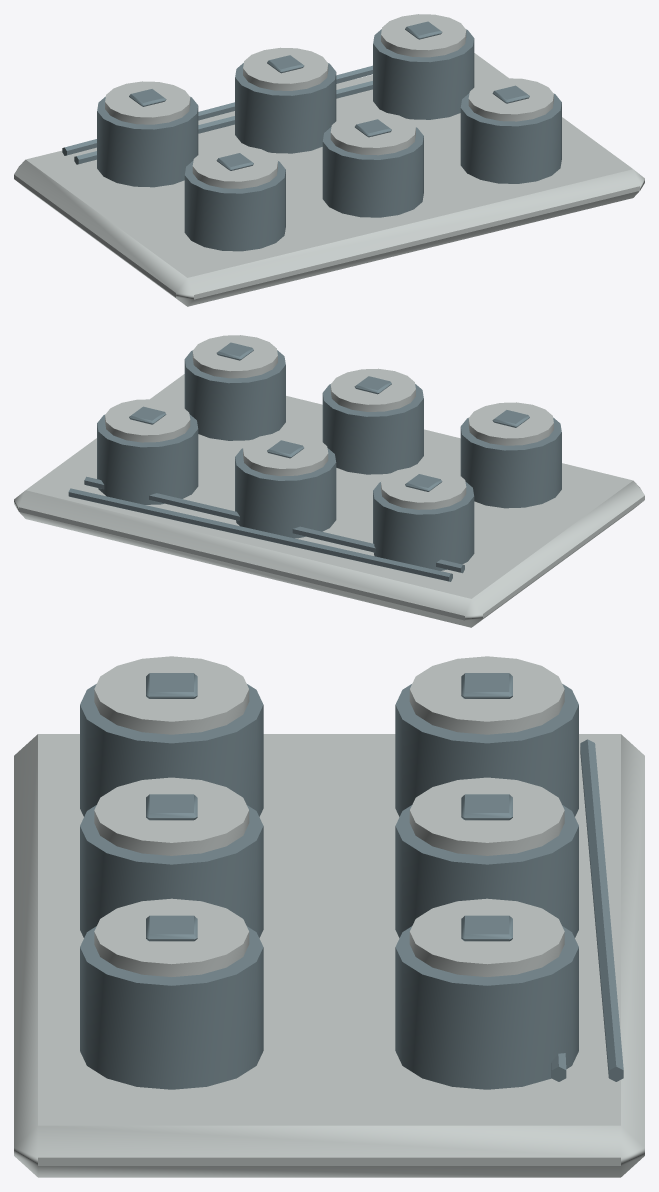
Rendered from sushi-tray.glb.
3 views of the same model, one above another, from view 1: azimuth 30°, elevation 25°; view 2: azimuth 150°, elevation 25°; view 3: azimuth 270°, elevation 25° (orthographic). The views are drawn at different scales.
Parts seen in each view (by area): view 1: serving_board, nori_roll.001, nori_roll.003, nori_roll.005, nori_roll, nori_roll.002, nori_roll.004, rice_top, rice_top.005, rice_top.001, rice_top.004, rice_top.002 (+9 smaller); view 2: serving_board, nori_roll.001, nori_roll.003, nori_roll.005, nori_roll.004, nori_roll.002, nori_roll, chopstick_1, rice_top.001, rice_top.004, rice_top, rice_top.005 (+9 smaller); view 3: serving_board, nori_roll.005, nori_roll.004, nori_roll, nori_roll.001, nori_roll.002, nori_roll.003, rice_top.002, rice_top.003, rice_top.004, rice_top.005, rice_top (+8 smaller).
Part boxes in pixels (x1,y1,x2,y2): serving_board: [14, 53, 644, 306]; nori_roll.001: [184, 160, 285, 251]; nori_roll.003: [322, 127, 423, 217]; nori_roll.005: [460, 93, 561, 183]; nori_roll: [97, 96, 198, 187]; nori_roll.002: [235, 63, 336, 153]; nori_roll.004: [373, 29, 474, 119]; rice_top: [105, 81, 190, 124]; rice_top.005: [468, 78, 553, 121]; rice_top.001: [192, 145, 277, 188]; rice_top.004: [381, 14, 466, 57]; rice_top.002: [243, 47, 328, 90]; serving_board: [14, 374, 644, 627]; nori_roll.001: [460, 417, 561, 508]; nori_roll.003: [322, 384, 423, 474]; nori_roll.005: [184, 350, 285, 440]; nori_roll.004: [97, 414, 198, 504]; nori_roll.002: [235, 448, 336, 538]; nori_roll: [373, 481, 474, 570]; chopstick_1: [68, 488, 452, 581]; rice_top.001: [468, 402, 553, 445]; rice_top.004: [105, 399, 190, 442]; rice_top: [381, 466, 466, 509]; rice_top.005: [192, 335, 277, 378]; serving_board: [14, 734, 644, 1177]; nori_roll.005: [80, 926, 263, 1089]; nori_roll.004: [395, 926, 578, 1089]; nori_roll: [395, 684, 578, 816]; nori_roll.001: [80, 684, 263, 816]; nori_roll.002: [395, 805, 578, 937]; nori_roll.003: [80, 805, 263, 937]; rice_top.002: [409, 777, 564, 855]; rice_top.003: [94, 777, 249, 855]; rice_top.004: [409, 898, 564, 976]; rice_top.005: [94, 898, 249, 976]; rice_top: [409, 656, 564, 734].
Size of the model in its own units: 0.34 by 0.0685 by 0.22.
